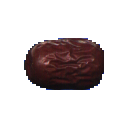gd: (11, 20, 110, 114)
